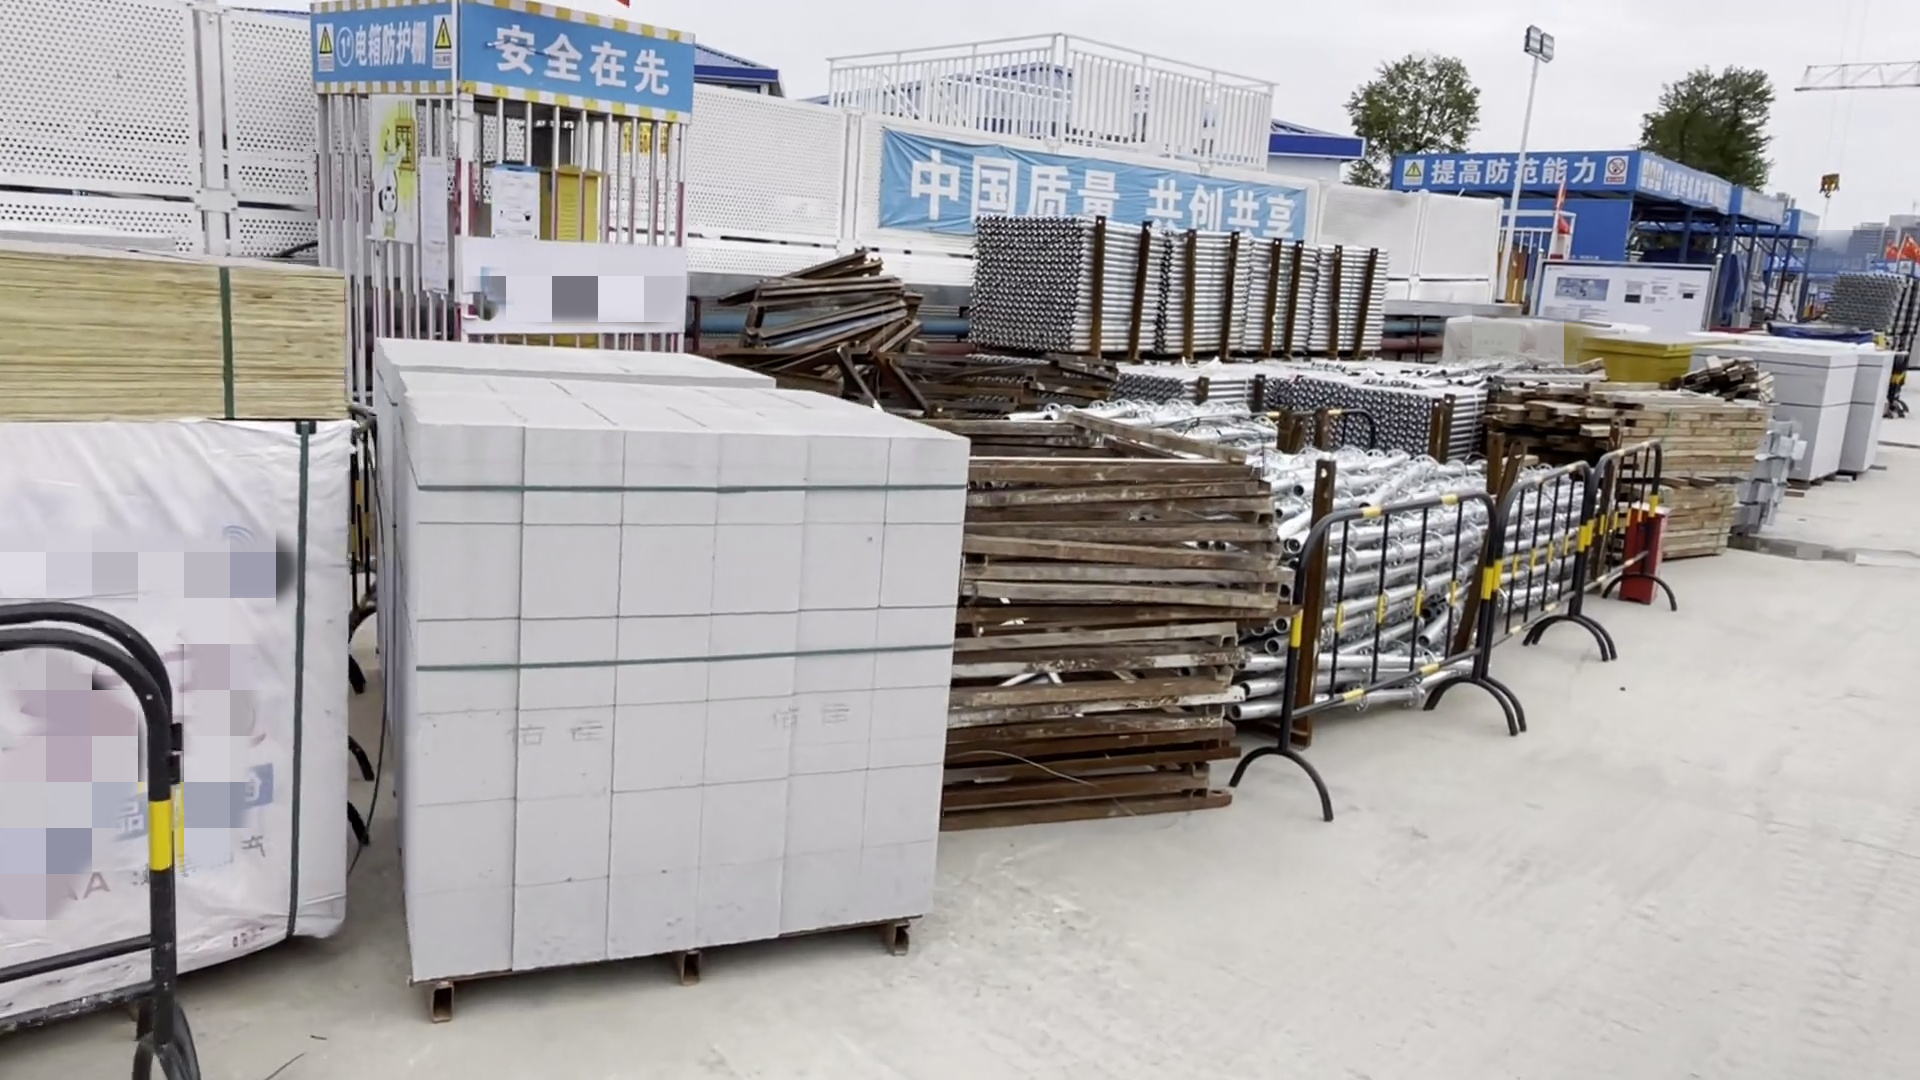brick: (367, 342, 975, 1005)
scaffold: (956, 216, 1402, 375)
slogan: (887, 131, 1315, 272), (323, 16, 669, 125), (1410, 152, 1636, 200), (1625, 160, 1734, 225)
